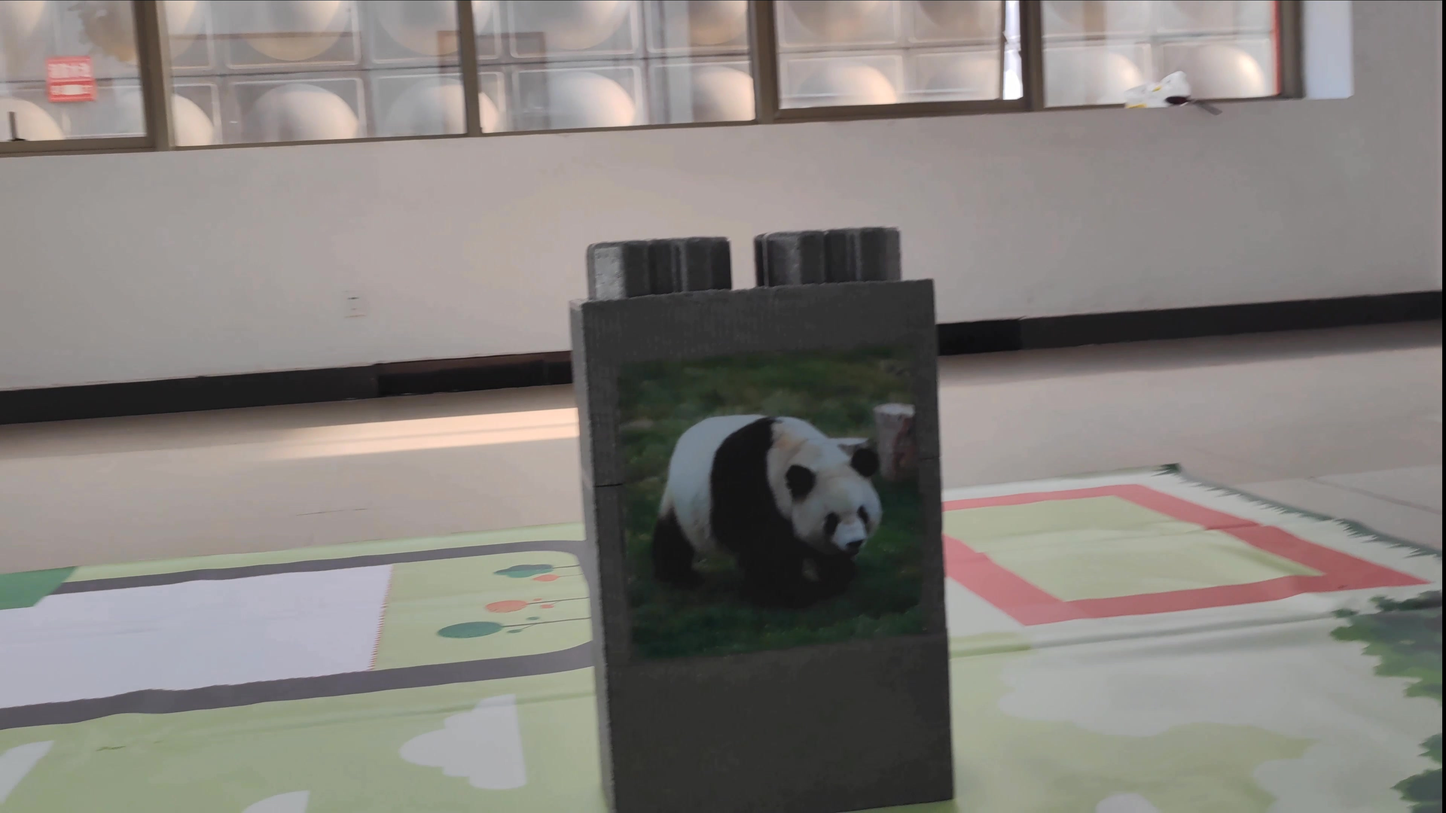panda: (615, 402, 906, 629)
